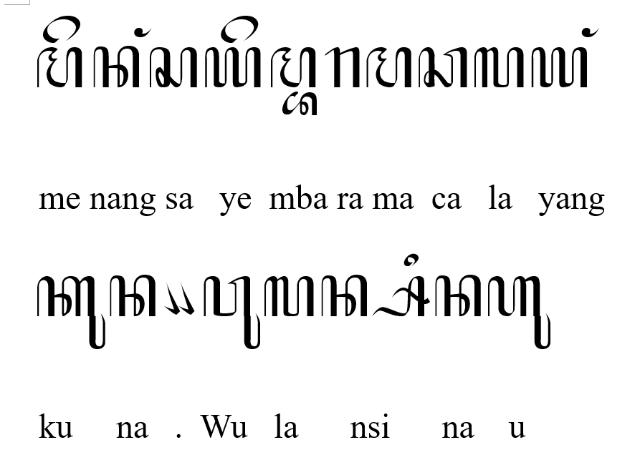_b: (282, 92, 318, 116)
_s: (372, 276, 430, 318)
c: (418, 46, 468, 88)
e: (220, 14, 260, 43), (43, 16, 81, 42)
hu: (488, 276, 550, 350)
i: (404, 253, 418, 267)
kom: (164, 282, 180, 316), (178, 282, 194, 314)
ku: (36, 276, 106, 350)
l: (474, 48, 524, 88), (264, 277, 314, 317)
m: (37, 46, 83, 88), (270, 46, 316, 88), (366, 46, 412, 88)
n: (110, 274, 156, 318), (436, 274, 482, 318), (92, 46, 140, 88), (322, 275, 368, 317)
ng: (134, 28, 152, 38), (582, 28, 600, 38)
r: (324, 46, 360, 88)
s: (149, 46, 197, 88)
wu: (203, 276, 261, 350)
y: (530, 46, 588, 88), (205, 46, 261, 88)
